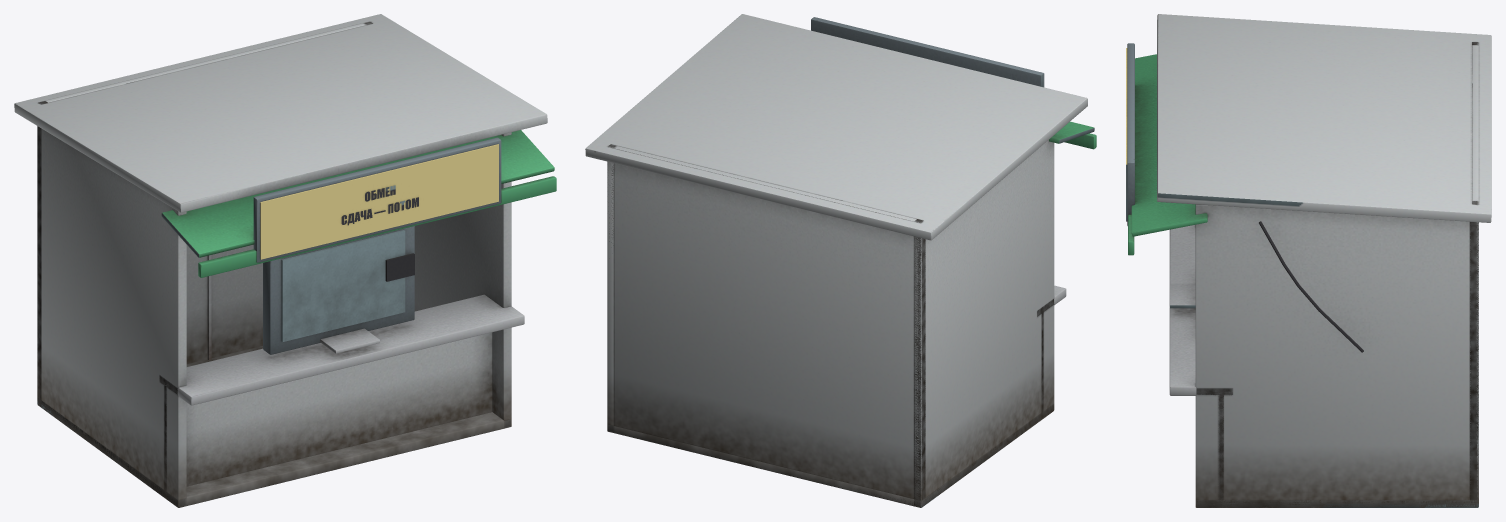
Rendered from g67_pz_kiosk_exchange.glb.
3 views of the same model, side by side, from view 1: azimuth 30°, elevation 25°; view 2: azimuth 150°, elevation 25°; view 3: azimuth 270°, elevation 25° (orthographic). The views are drawn at different scales.
Visible parts, largest first — view 1: g67_pz_kiosk_exchange, glass; view 2: g67_pz_kiosk_exchange; view 3: g67_pz_kiosk_exchange.
Part boxes in pixels (bbox=[...]): g67_pz_kiosk_exchange: bbox=[14, 14, 556, 507]; glass: bbox=[281, 230, 405, 341]; g67_pz_kiosk_exchange: bbox=[585, 14, 1096, 507]; g67_pz_kiosk_exchange: bbox=[1126, 14, 1491, 507].
Bounding box in the file's own units: 3.36 × 2.78 × 2.84.
1 material, 1 textured.
